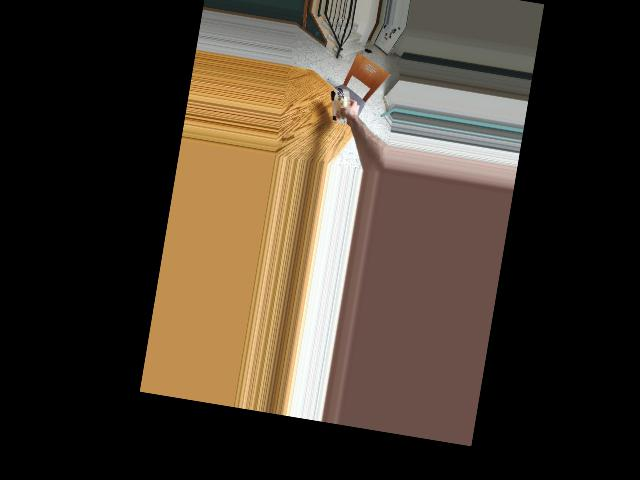cheese: (326, 88, 353, 124)
